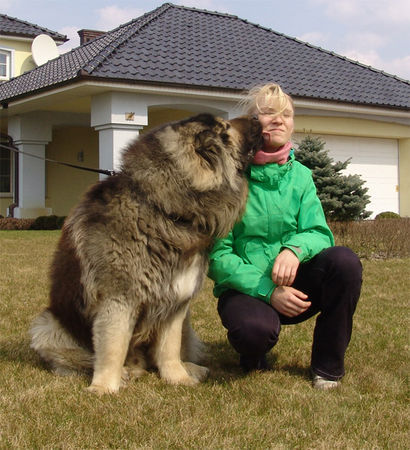cau_ovcharka: (27, 112, 264, 396)
human_face: (254, 102, 294, 149)
person: (207, 82, 363, 389)
